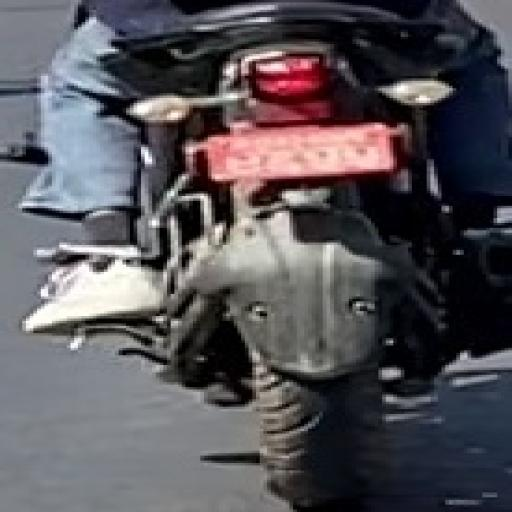license_plate: (200, 121, 398, 183)
